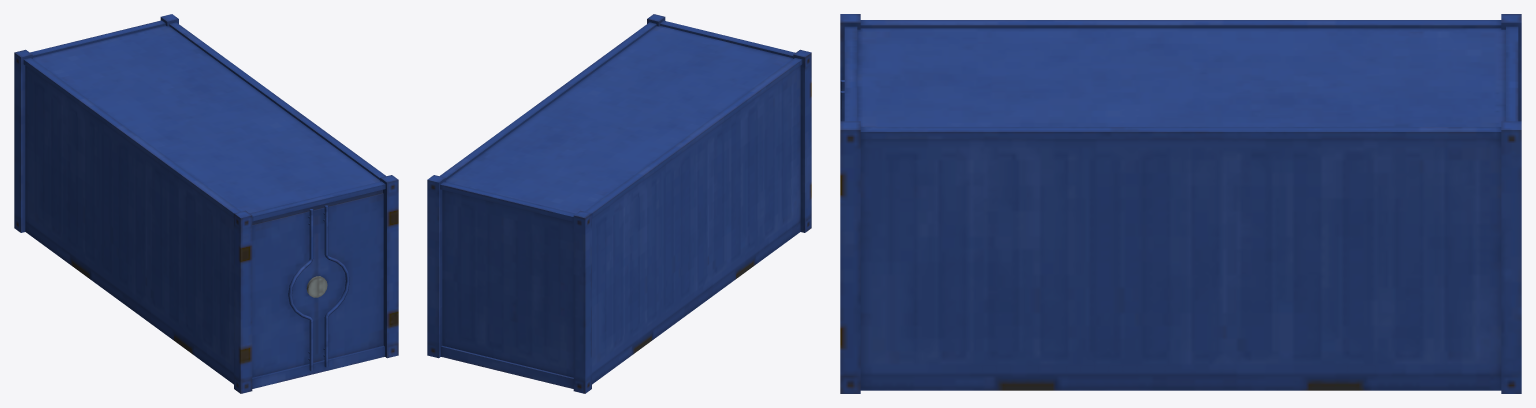
The model's file is objects_un_t05container01.gltf.
3 renders of one model, left to right at view 1: azimuth 30°, elevation 25°; view 2: azimuth 150°, elevation 25°; view 3: azimuth 270°, elevation 25°, orthographic. The views are drawn at different scales.
Visible parts, largest first — view 1: container01_shape:objects_un_t05container01_obj01; view 2: container01_shape:objects_un_t05container01_obj01; view 3: container01_shape:objects_un_t05container01_obj01.
Part boxes in pixels (x1,y1,x2,y2): container01_shape:objects_un_t05container01_obj01: [14, 14, 398, 393]; container01_shape:objects_un_t05container01_obj01: [427, 14, 811, 393]; container01_shape:objects_un_t05container01_obj01: [840, 14, 1521, 393].
Size of what is drawn, in the model's own units: 2.44 by 2.59 by 6.06.
1 material, 1 textured.
